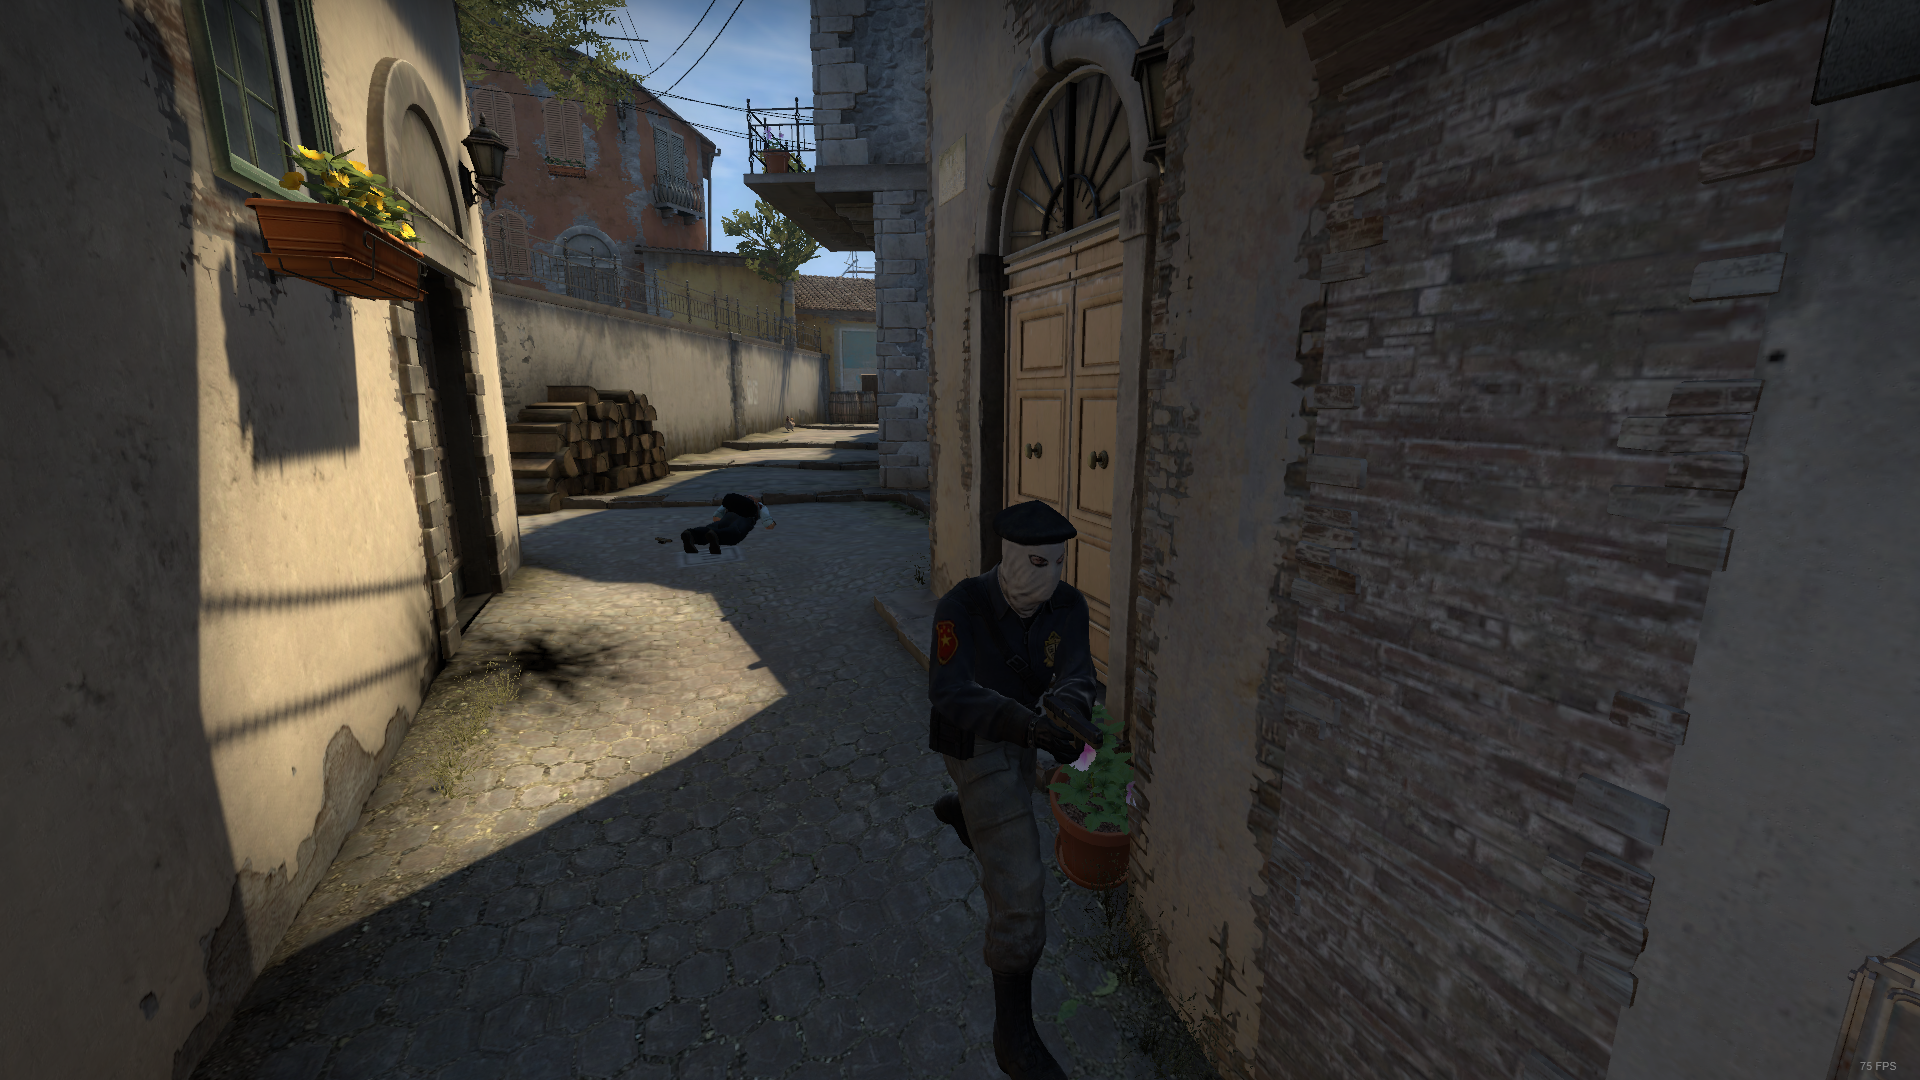t: (887, 487, 1131, 1080)
